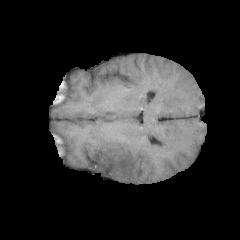glioma: (92, 142, 138, 179)
